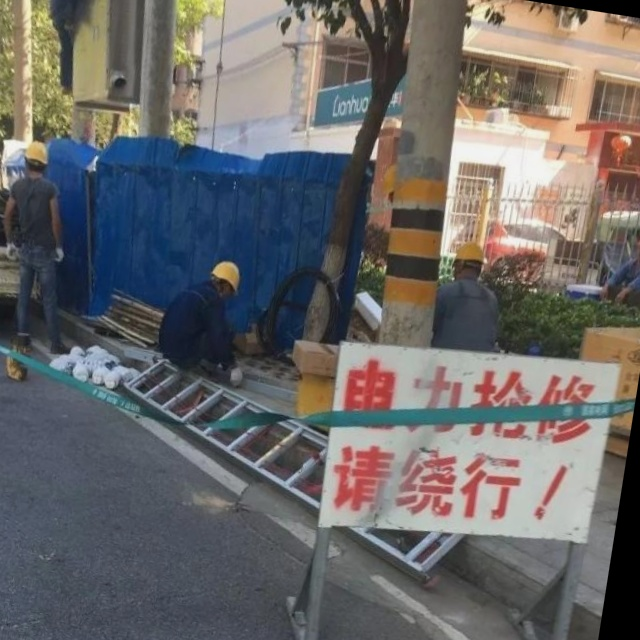Con_Casco: (207, 258, 243, 304), (22, 137, 48, 174)
